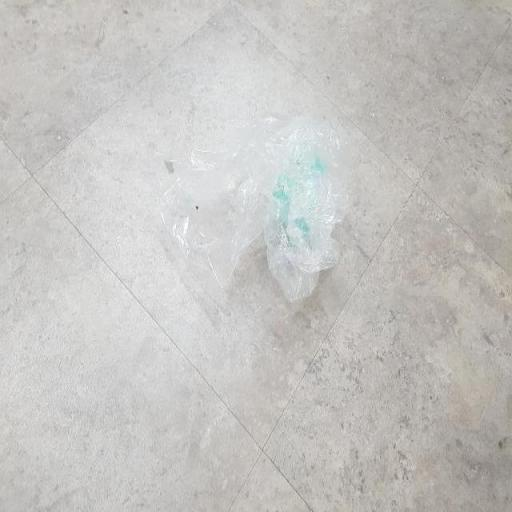plastic-bag: (154, 107, 351, 305)
